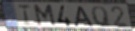2: (110, 6, 129, 28)
4: (57, 4, 73, 27)
A: (74, 6, 94, 27)
M: (33, 4, 58, 28)
Q: (91, 5, 112, 27)
T: (17, 4, 32, 27)
